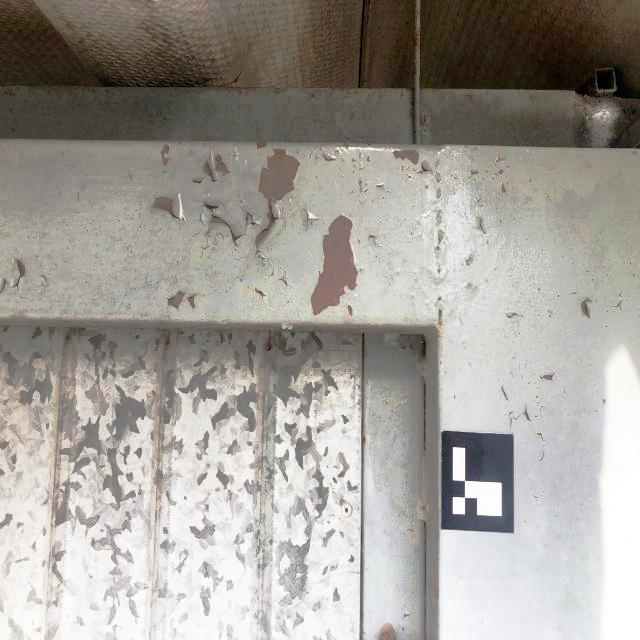Corrosion: (414, 24, 420, 49), (417, 8, 420, 15)
